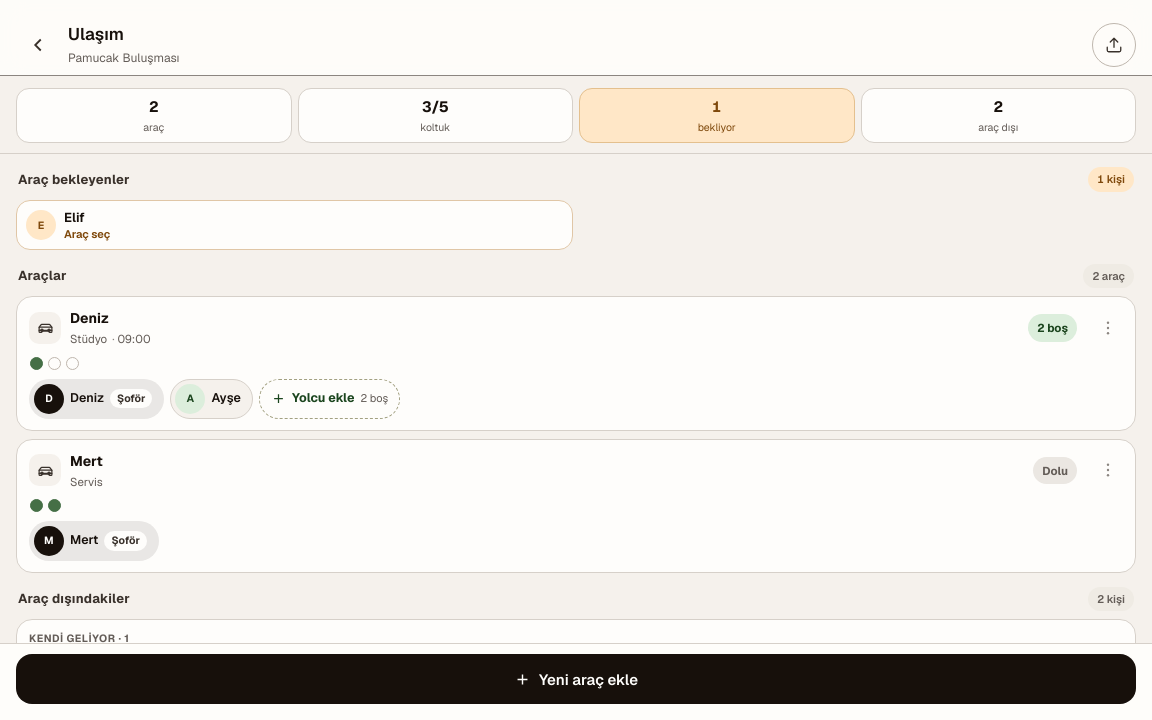
Scenario: Mobil etkinlik ulaşım planı › düzenle/sil aksiyonlarını kart üzerinde saklar, ⋯ ile açar ve koltuk sayısını kaydeder
Expected: the button "Kaydet" is not shown
Expected: the button "Sil" is not shown
Click the button named "Deniz aracını düzenle" at (1108, 328), box 1086,306 -> 1130,350
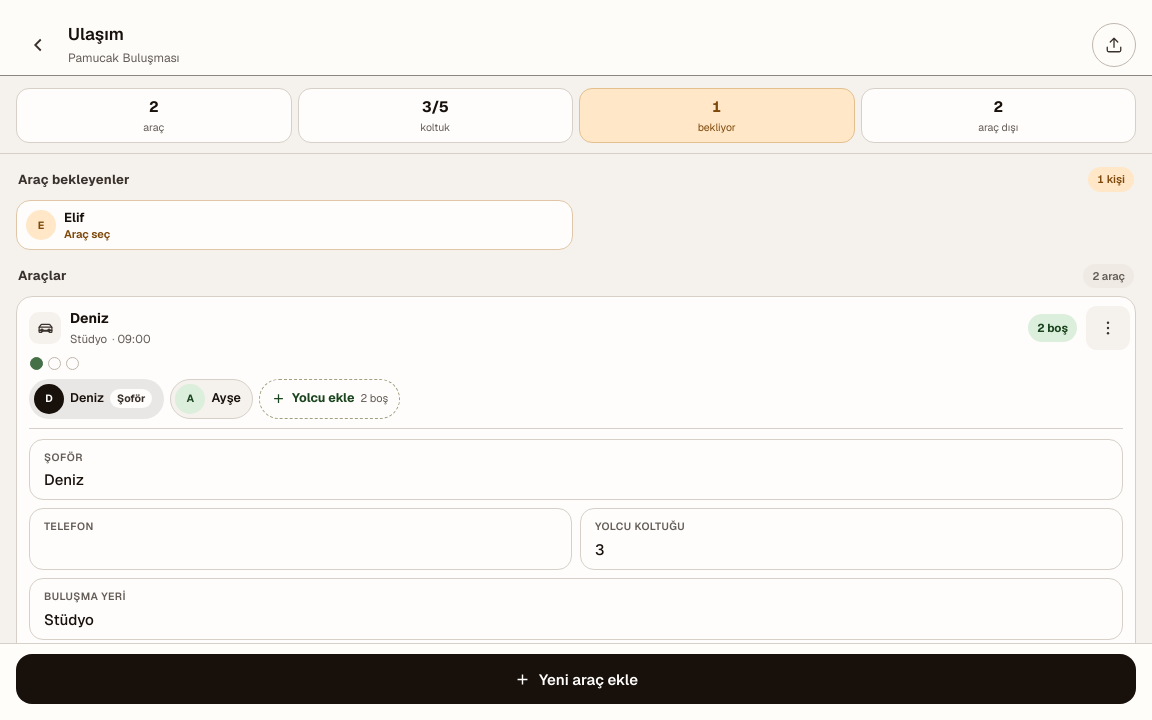
Replace the text in the field labelled "YOLCU KOLTUĞU" with "5" at (852, 550), box 595,540 -> 1108,559
(page scrolled)
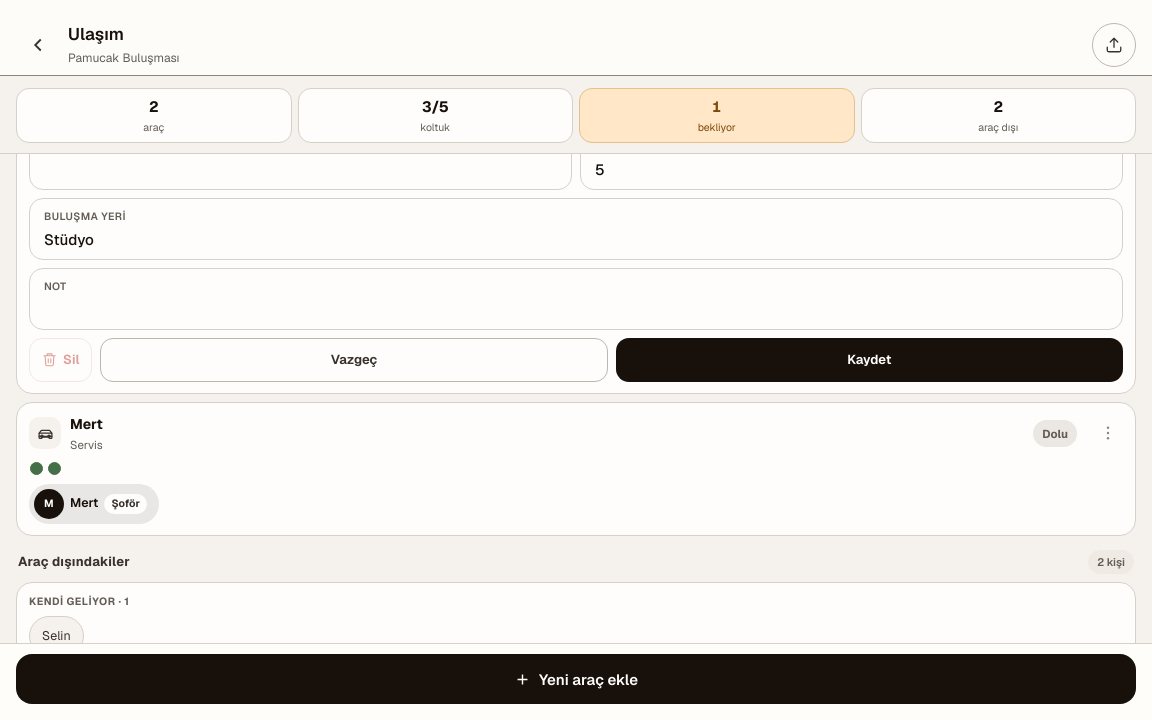
Click the button "Kaydet" at (869, 360), box 616,338 -> 1123,382
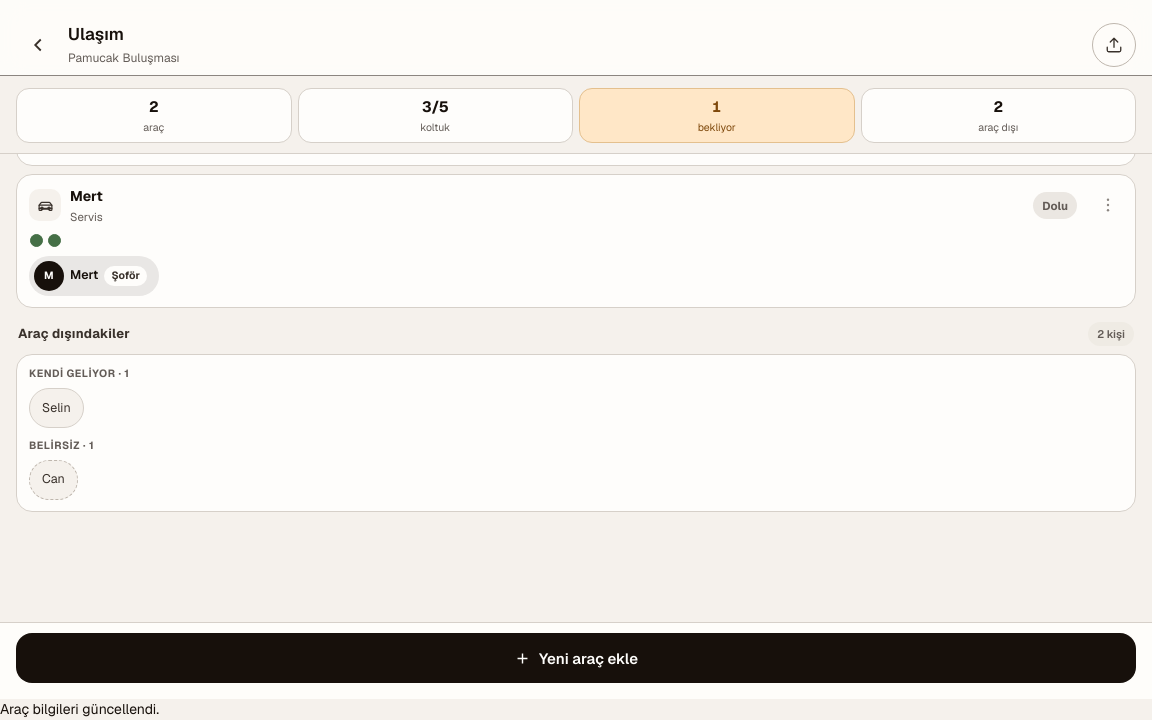
Expected: the text "Araç bilgileri güncellendi." is shown, 0,700 -> 159,718
